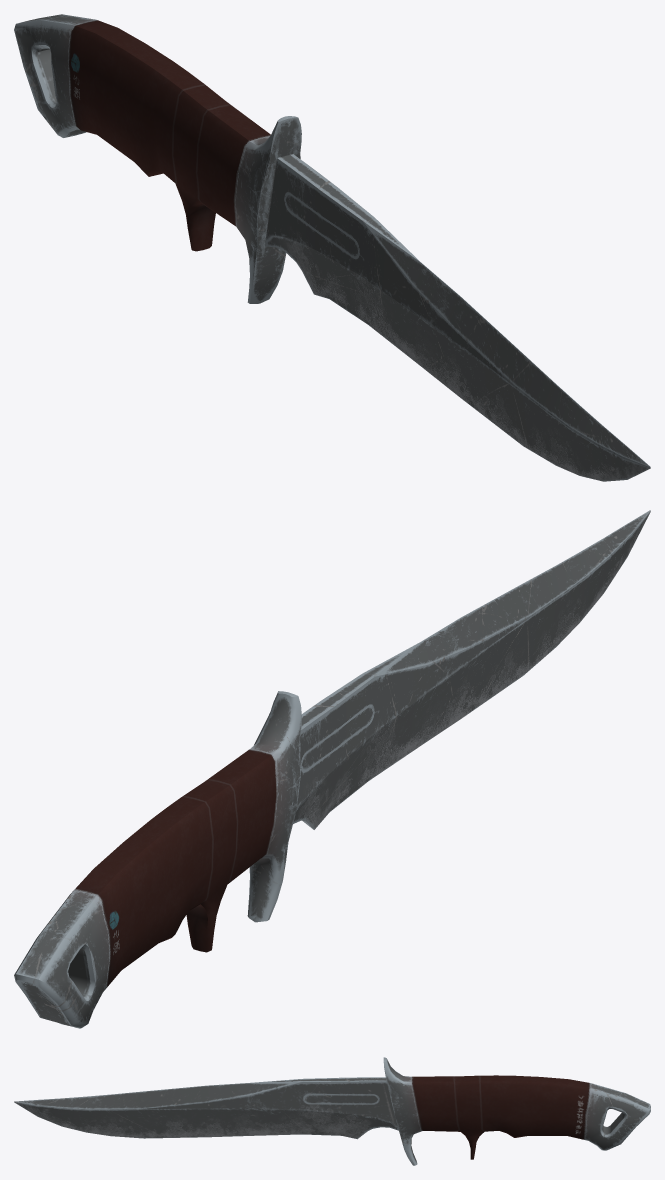
The model's file is Tactical Knife.obj.
3 renders of one model, top to bottom at view 1: azimuth 30°, elevation 25°; view 2: azimuth 150°, elevation 25°; view 3: azimuth 270°, elevation 25°, orthographic. The views are drawn at different scales.
Parts seen in each view (by area): view 1: Blade-Low_Plane, Handle-Low_Cube.001; view 2: Handle-Low_Cube.001, Blade-Low_Plane; view 3: Blade-Low_Plane, Handle-Low_Cube.001.
Part boxes in pixels (x1,y1,x2,y2): Blade-Low_Plane: (265,154,650,481); Handle-Low_Cube.001: (14,14,301,303); Handle-Low_Cube.001: (14,691,301,1028); Blade-Low_Plane: (293,510,650,829); Blade-Low_Plane: (14,1077,398,1139); Handle-Low_Cube.001: (383,1057,650,1165).
Bounding box in the file's own units: 0.1786 × 0.8881 × 4.87.
Materials: 2 (2 with a texture image).
